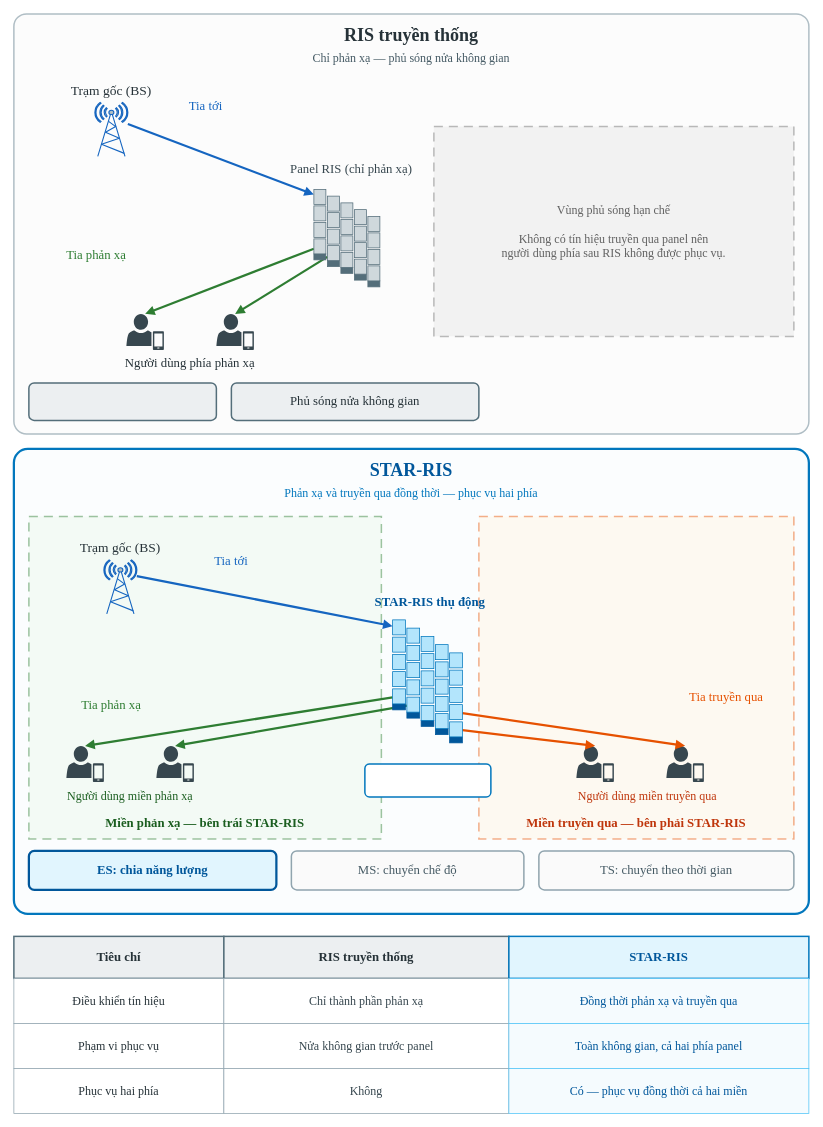
Some shapes in this 823 by 1127 pixel diagram are drawn without their labels. Each missing label, with the box of its shape:
Chỉ phản xạ: (28, 382, 217, 421)
β n T + β n R = 1: (364, 763, 491, 797)
